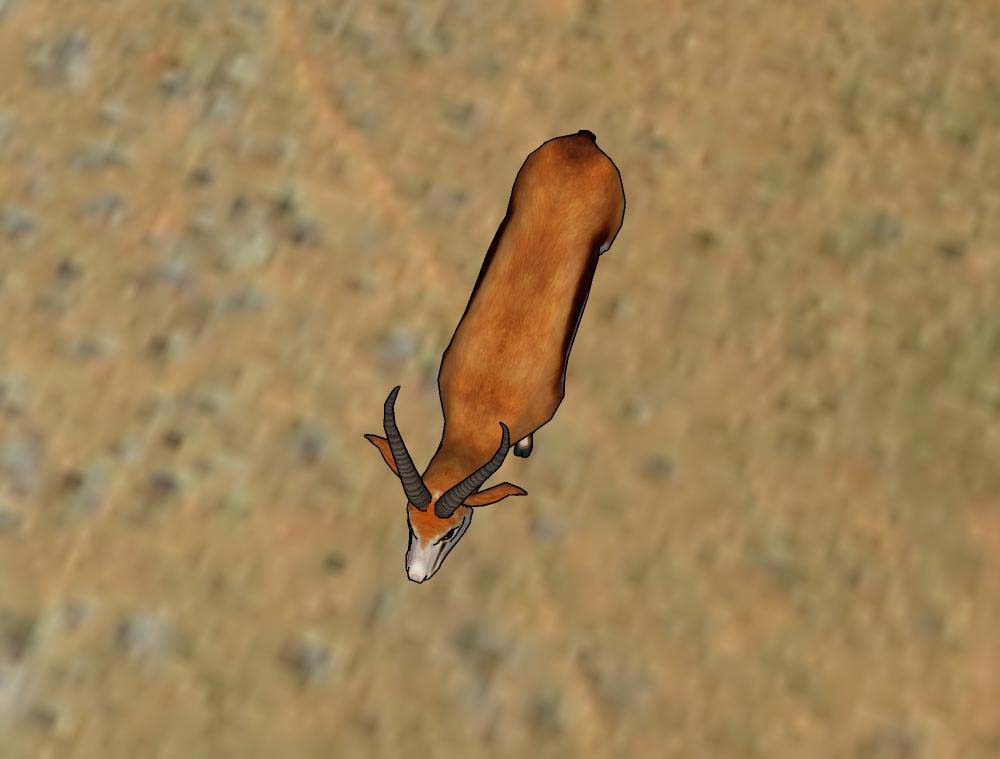springbok: (359, 117, 635, 592)
